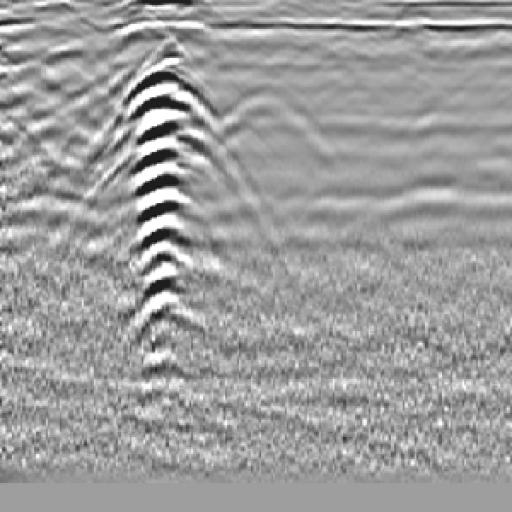metalic: (80, 39, 235, 343)
nonmetalic: (201, 85, 349, 188)
